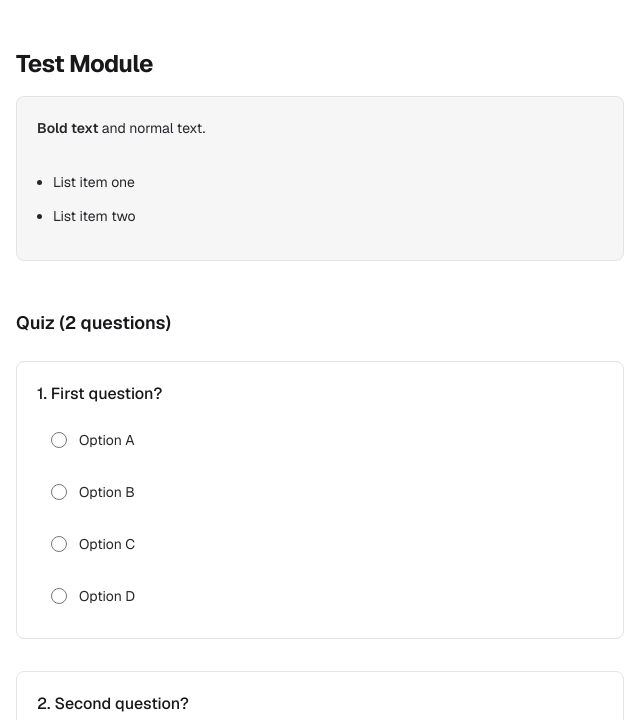
Test: ModuleQuiz › given one correct and one wrong answer, should show correct score
Click the radio button labelled "Option A".
click(59, 440)  # box [51,432,67,448]
(page scrolled)
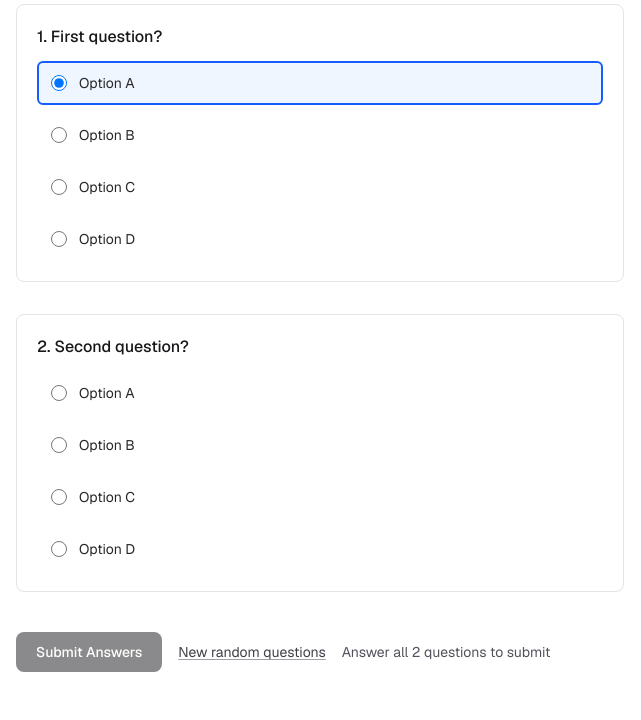
Click the radio button labelled "Option A" below "Second question?".
click(59, 393)  # box [51,385,67,401]
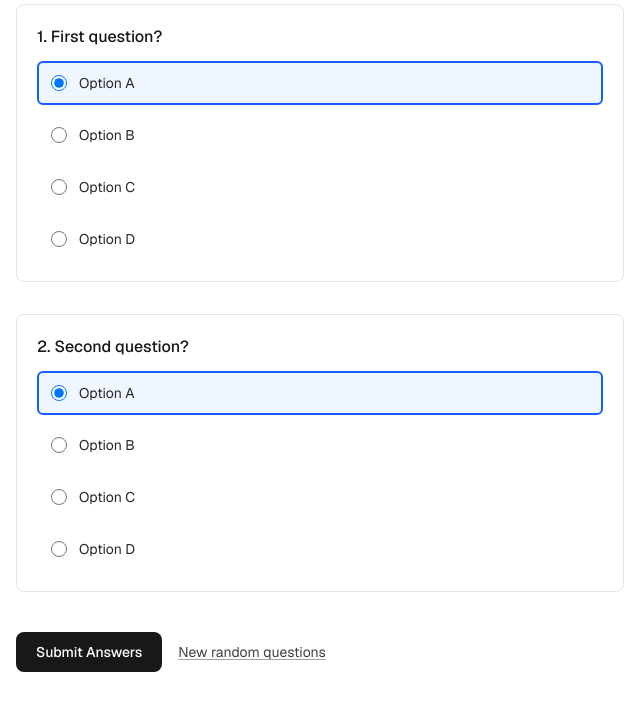
Click the button "Submit Answers".
click(89, 652)  # box [16,632,162,672]
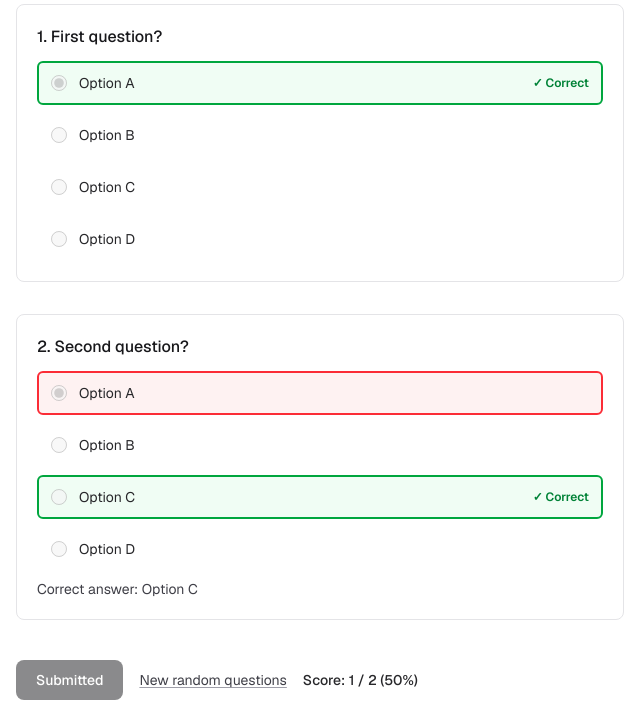
Expected: the text "Score: 1 / 2 (50%)" is shown, [303,670,418,690]
